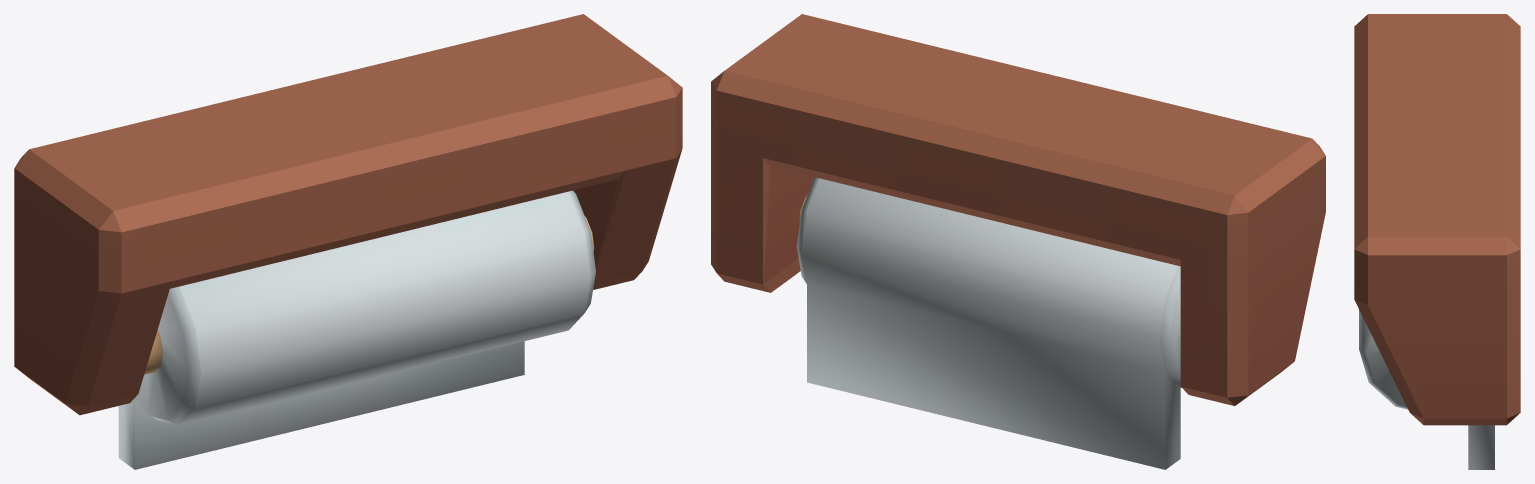
Rendered from kaykit-restaurant-bits-shelf-papertowel.glb.
3 renders of one model, left to right at view 1: azimuth 30°, elevation 25°; view 2: azimuth 150°, elevation 25°; view 3: azimuth 270°, elevation 25°, orthographic. The views are drawn at different scales.
Parts seen in each view (by area): view 1: shelf_papertowel; view 2: shelf_papertowel; view 3: shelf_papertowel.
Boxes of the visible parts, left/top/right/bottom form: shelf_papertowel: left=14, top=14, right=682, bottom=469; shelf_papertowel: left=711, top=14, right=1325, bottom=469; shelf_papertowel: left=1354, top=14, right=1520, bottom=469.
Size of the model in its own units: 2 by 1.06 by 0.5999.
Materials: 1 (1 with a texture image).
